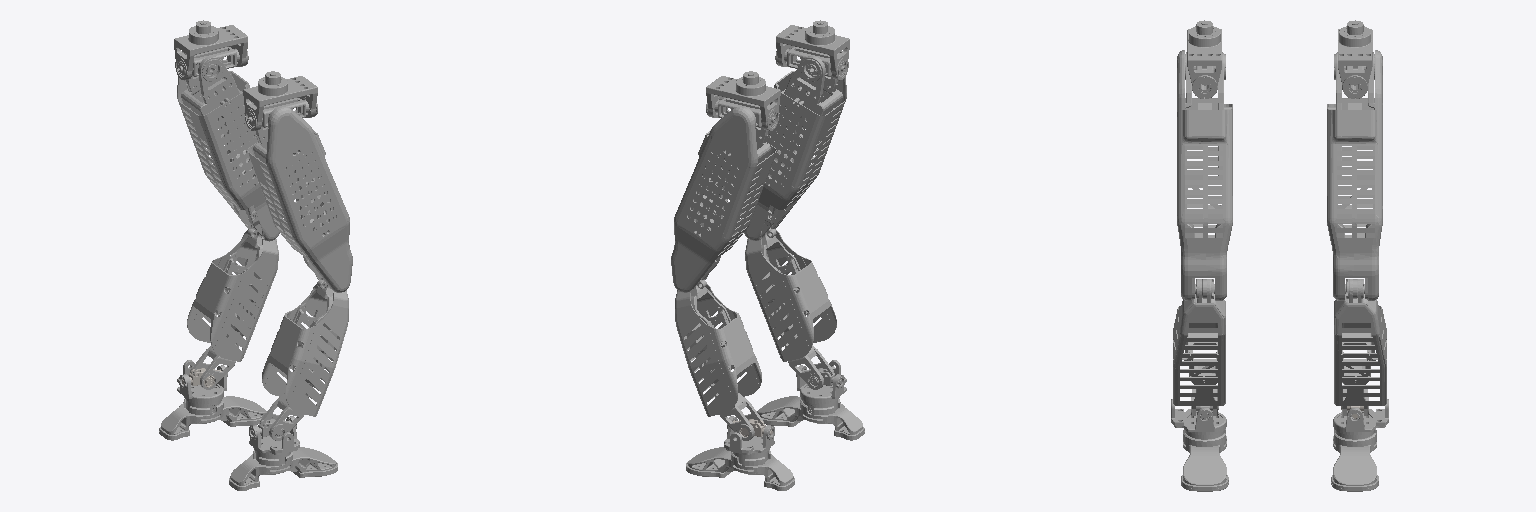
URDF robot description (biped_gazebo):
<?xml version="1.0" encoding="utf-8"?>
<!-- This URDF was automatically created by SolidWorks to URDF Exporter! Originally created by [author] ([email redacted]) 
     Commit Version: 1.6.0-4-g7f85cfe  Build Version: 1.6.7995.38578
     For more information, xyz="-0.0069577 -4.092E-06 0.083507please see http://wiki.ros.org/sw_urdf_exporter -->
<robot
  name="biped_gazebo">

  
  <link
    name="trunk">
    <inertial>
      <origin
        xyz="-0.0069577 -4.092E-06 0"
        rpy="0 0 0" />
      <mass
        value="5.3881" />
      <inertia
     ixx="0.045616"
        ixy="-2.279E-06"
        ixz="2.4007E-07"
        iyy="0.029371"
        iyz="1.1002E-10"
        izz="0.074965" />
    </inertial>
    <visual>
      <origin
        xyz="0 0 0"
        rpy="0 0 0" />
      <geometry>
        <mesh
          filename="package://biped_gazebo/meshes/trunk.STL" />
      </geometry>
      <material
        name="">
        <color
          rgba="0.75294 0.75294 0.75294 1" />
      </material>
    </visual>
     <collision>
      <origin
        xyz="0 0 0"
        rpy="0 0 0" />
      <geometry>
        <box size="0.290 0.389 0.648"/>
      </geometry>
    </collision>
  </link>
  <link
    name="r_hip_1">
    <inertial>
      <origin
        xyz="0.033316 4.3525E-12 0.04091"
        rpy="0 0 0" />
      <mass
        value="0.06082" />
      <inertia
        ixx="5.6576E-05"
        ixy="1.3981E-14"
        ixz="4.5222E-06"
        iyy="0.00010609"
        iyz="7.7058E-15"
        izz="0.00010293" />
    </inertial>
    <visual>
      <origin
        xyz="0 0 0"
        rpy="0 0 0" />
      <geometry>
        <mesh
          filename="package://biped_gazebo/meshes/r_hip_1.STL" />
      </geometry>
      <material
        name="">
        <color
          rgba="0.69804 0.69804 0.69804 1" />
      </material>
    </visual>
    <collision>
      <origin
        xyz="0 0 0"
        rpy="0 0 0" />
      <geometry>
        <mesh
          filename="package://biped_gazebo/meshes/r_hip_1.STL" />
      </geometry>
    </collision>
  </link>
  <joint
    name="r_j0"
    type="revolute">
    <origin
      xyz="0 -0.154999999999996 -0.232487666753022"
      rpy="0 -0.338000462941209 0" />
    <parent
      link="trunk" />
    <child
      link="r_hip_1" />
    <axis
      xyz="0.331601353840647 0 0.943419600247446" />
  <limit effort="150.0" lower="-6.28318530718" upper="6.28318530718" velocity="3.15"/>
    <dynamics damping="0.0" friction="0.0"/>
  </joint>
  <link
    name="r_hip_2">
    <inertial>
      <origin
        xyz="0.010787 -0.00079176 -0.0038183"
        rpy="0 0 0" />
      <mass
        value="0.03831" />
      <inertia
        ixx="1.8449E-05"
        ixy="-3.2225E-07"
        ixz="1.4639E-05"
        iyy="5.5824E-05"
        iyz="1.15E-07"
        izz="5.499E-05" />
    </inertial>
    <visual>
      <origin
        xyz="0 0 0"
        rpy="0 0 0" />
      <geometry>
        <mesh
          filename="package://biped_gazebo/meshes/r_hip_2.STL" />
      </geometry>
      <material
        name="">
        <color
          rgba="0.69804 0.69804 0.69804 1" />
      </material>
    </visual>
    <collision>
      <origin
        xyz="0 0 0"
        rpy="0 0 0" />
      <geometry>
        <mesh
          filename="package://biped_gazebo/meshes/r_hip_2.STL" />
      </geometry>
    </collision>
  </link>
  <joint
    name="r_j1"
    type="revolute">
    <origin
      xyz="0 0 0"
      rpy="0 0 0" />
    <parent
      link="r_hip_1" />
    <child
      link="r_hip_2" />
    <axis
      xyz="0.943419600247446 0 -0.331601353840647" />
    <limit effort="150.0" lower="-6.28318530718" upper="6.28318530718" velocity="3.15"/>
    <dynamics damping="0.0" friction="0.0"/>
  </joint>
  <link
    name="r_thigh">
    <inertial>
      <origin
        xyz="-0.0030975 0.00070719 -0.23726"
        rpy="0 0 0" />
      <mass
        value="0.1803" />
      <inertia
        ixx="0.0022151"
        ixy="-8.068E-06"
        ixz="0.00011521"
        iyy="0.0021591"
        iyz="3.0782E-05"
        izz="0.00036544" />
    </inertial>
    <visual>
      <origin
        xyz="0 0 0"
        rpy="0 0 0" />
      <geometry>
        <mesh
          filename="package://biped_gazebo/meshes/r_thigh.STL" />
      </geometry>
      <material
        name="">
        <color
          rgba="0.69804 0.69804 0.69804 1" />
      </material>
    </visual>
   <collision>
      <origin
        xyz="0 0 -0.26"
        rpy="0 0 0" />
      <geometry>
        <box size="0.134 0.11 0.52"/>
      </geometry>
    </collision>
  </link>
  <joint
    name="r_j2"
    type="revolute">
    <origin
      xyz="0 0 0"
      rpy="0 0 0" />
    <parent
      link="r_hip_2" />
    <child
      link="r_thigh" />
    <axis
      xyz="0 1 0" />
  <limit effort="150.0" lower="-6.28318530718" upper="6.28318530718" velocity="3.15"/>
    <dynamics damping="0.0" friction="0.0"/>
  </joint>
  <link
    name="r_shank">
    <inertial>
      <origin
        xyz="0.012918 -0.001006 -0.13905"
        rpy="0 0 0" />
      <mass
        value="0.094371" />
      <inertia
        ixx="0.00074231"
        ixy="-1.0243E-06"
        ixz="5.6781E-05"
        iyy="0.0007242"
        iyz="-4.8112E-06"
        izz="8.7145E-05" />
    </inertial>
    <visual>
      <origin
        xyz="0 0 0"
        rpy="0 0 0" />
      <geometry>
        <mesh
          filename="package://biped_gazebo/meshes/r_shank.STL" />
      </geometry>
      <material
        name="">
        <color
          rgba="0.69804 0.69804 0.69804 1" />
      </material>
    </visual>
    <collision>
      <origin
        xyz="0 0 -0.187"
        rpy="0 0 0" />
      <geometry>
        <box size="0.115 0.092 0.374"/>
      </geometry>
    </collision>
  </link>
  <joint
    name="r_j3"
    type="revolute">
    <origin
      xyz="0 0 -0.459999999999993"
      rpy="0 0.761661685570331 0" />
    <parent
      link="r_thigh" />
    <child
      link="r_shank" />
    <axis
      xyz="0 1 0" />
  <limit effort="150.0" lower="-6.28318530718" upper="6.28318530718" velocity="3.15"/>
    <dynamics damping="0.0" friction="0.0"/>
  </joint>
  <link
    name="r_ankle">
    <inertial>
      <origin
        xyz="-0.00042543 0.00022181 -1.7557E-06"
        rpy="0 0 0" />
      <mass
        value="0.013946" />
      <inertia
        ixx="2.0724E-06"
        ixy="-1.3161E-09"
        ixz="-9.2509E-09"
        iyy="6.7476E-06"
        iyz="-5.4313E-12"
        izz="7.2632E-06" />
    </inertial>
    <visual>
      <origin
        xyz="0 0 0"
        rpy="0 0 0" />
      <geometry>
        <mesh
          filename="package://biped_gazebo/meshes/r_ankle.STL" />
      </geometry>
      <material
        name="">
        <color
          rgba="0.69804 0.69804 0.69804 1" />
      </material>
    </visual>
    <collision>
      <origin
        xyz="0 0 0"
        rpy="0 0 0" />
      <geometry>
        <mesh
          filename="package://biped_gazebo/meshes/r_ankle.STL" />
      </geometry>
    </collision>
  </link>
  <joint
    name="r_j4"
    type="revolute">
    <origin
      xyz="0 0 -0.369999264544103"
      rpy="0 -0.419926218029841 0" />
    <parent
      link="r_shank" />
    <child
      link="r_ankle" />
    <axis
      xyz="0 1 0" />
<limit effort="150.0" lower="-6.28318530718" upper="6.28318530718" velocity="3.15"/>
    <dynamics damping="0.0" friction="0.0"/>
  </joint>
  <link
    name="r_foot">
    <inertial>
      <origin
        xyz="0.029031 -1.0458E-05 -0.09403"
        rpy="0 0 0" />
      <mass
        value="0.076977" />
      <inertia
        ixx="5.1121E-05"
        ixy="-2.3378E-08"
        ixz="2.0448E-05"
        iyy="0.00037216"
        iyz="3.2135E-09"
        izz="0.0003964" />
    </inertial>
    <visual>
      <origin
        xyz="0 0 0"
        rpy="0 0 0" />
      <geometry>
        <mesh
          filename="package://biped_gazebo/meshes/r_foot.STL" />
      </geometry>
      <material
        name="">
        <color
          rgba="0.69804 0.69804 0.69804 1" />
      </material>
    </visual>
    <collision>
      <origin
        xyz="0.0245 0 -0.0615"
        rpy="0 0 0" />
      <geometry>
       <box size="0.257 0.098 0.123"/>
      </geometry>
    </collision>
  </link>
  <joint
    name="r_j5"
    type="revolute">
    <origin
      xyz="0 0 0"
      rpy="0 0 0" />
    <parent
      link="r_ankle" />
    <child
      link="r_foot" />
    <axis
      xyz="1 0 0" />
   <limit effort="150.0" lower="-6.28318530718" upper="6.28318530718" velocity="3.15"/>
    <dynamics damping="0.0" friction="0.0"/>
  </joint>
  <link
    name="l_hip_1">
    <inertial>
      <origin
        xyz="0.033316 4.3575E-12 0.04091"
        rpy="0 0 0" />
      <mass
        value="0.06082" />
      <inertia
        ixx="5.6576E-05"
        ixy="1.3981E-14"
        ixz="4.5222E-06"
        iyy="0.00010609"
        iyz="7.7058E-15"
        izz="0.00010293" />
    </inertial>
    <visual>
      <origin
        xyz="0 0 0"
        rpy="0 0 0" />
      <geometry>
        <mesh
          filename="package://biped_gazebo/meshes/l_hip_1.STL" />
      </geometry>
      <material
        name="">
        <color
          rgba="0.69804 0.69804 0.69804 1" />
      </material>
    </visual>
    <collision>
      <origin
        xyz="0 0 0"
        rpy="0 0 0" />
      <geometry>
        <mesh
          filename="package://biped_gazebo/meshes/l_hip_1.STL" />
      </geometry>
    </collision>
  </link>
  <joint
    name="l_j0"
    type="revolute">
    <origin
      xyz="0 0.155000000000001 -0.232487666753018"
      rpy="0 -0.338000462941113 0" />
    <parent
      link="trunk" />
    <child
      link="l_hip_1" />
    <axis
      xyz="0.331601353840557 0 0.943419600247477" />
   <limit effort="150.0" lower="-6.28318530718" upper="6.28318530718" velocity="3.15"/>
    <dynamics damping="0.0" friction="0.0"/>
  </joint>
  <link
    name="l_hip_2">
    <inertial>
      <origin
        xyz="0.010787 0.00079176 -0.0038183"
        rpy="0 0 0" />
      <mass
        value="0.03831" />
      <inertia
        ixx="1.8449E-05"
        ixy="3.2225E-07"
        ixz="1.4639E-05"
        iyy="5.5824E-05"
        iyz="-1.15E-07"
        izz="5.499E-05" />
    </inertial>
    <visual>
      <origin
        xyz="0 0 0"
        rpy="0 0 0" />
      <geometry>
        <mesh
          filename="package://biped_gazebo/meshes/l_hip_2.STL" />
      </geometry>
      <material
        name="">
        <color
          rgba="0.69804 0.69804 0.69804 1" />
      </material>
    </visual>
    <collision>
      <origin
        xyz="0 0 0"
        rpy="0 0 0" />
      <geometry>
        <mesh
          filename="package://biped_gazebo/meshes/l_hip_2.STL" />
      </geometry>
    </collision>
  </link>
  <joint
    name="l_j1"
    type="revolute">
    <origin
      xyz="0 0 0"
      rpy="0 0 0" />
    <parent
      link="l_hip_1" />
    <child
      link="l_hip_2" />
    <axis
      xyz="0.943419600247477 0 -0.331601353840556" />
   <limit effort="150.0" lower="-6.28318530718" upper="6.28318530718" velocity="3.15"/>
    <dynamics damping="0.0" friction="0.0"/>
  </joint>
  <link
    name="l_thigh">
    <inertial>
      <origin
        xyz="-0.0030975 -0.00070717 -0.23726"
        rpy="0 0 0" />
      <mass
        value="0.1803" />
      <inertia
        ixx="0.0022151"
        ixy="8.068E-06"
        ixz="0.00011521"
        iyy="0.0021591"
        iyz="-3.0782E-05"
        izz="0.00036544" />
    </inertial>
    <visual>
      <origin
        xyz="0 0 0"
        rpy="0 0 0" />
      <geometry>
        <mesh
          filename="package://biped_gazebo/meshes/l_thigh.STL" />
      </geometry>
      <material
        name="">
        <color
          rgba="0.69804 0.69804 0.69804 1" />
      </material>
    </visual>
    <collision>
      <origin
        xyz="0 0 -0.26"
        rpy="0 0 0" />
      <geometry>
        <box size="0.134 0.11 0.52"/>
      </geometry>
    </collision>
  </link>
  <joint
    name="l_j2"
    type="revolute">
    <origin
      xyz="0 0 0"
      rpy="0 0 0" />
    <parent
      link="l_hip_2" />
    <child
      link="l_thigh" />
    <axis
      xyz="0 1 0" />
   <limit effort="150.0" lower="-6.28318530718" upper="6.28318530718" velocity="3.15"/>
    <dynamics damping="0.0" friction="0.0"/>
  </joint>
  <link
    name="l_shank">
    <inertial>
      <origin
        xyz="0.012918 0.0010059 -0.13905"
        rpy="0 0 0" />
      <mass
        value="0.094371" />
      <inertia
        ixx="0.00074231"
        ixy="1.0243E-06"
        ixz="5.6781E-05"
        iyy="0.0007242"
        iyz="4.8113E-06"
        izz="8.7145E-05" />
    </inertial>
    <visual>
      <origin
        xyz="0 0 0"
        rpy="0 0 0" />
      <geometry>
        <mesh
          filename="package://biped_gazebo/meshes/l_shank.STL" />
      </geometry>
      <material
        name="">
        <color
          rgba="0.69804 0.69804 0.69804 1" />
      </material>
    </visual>
       <collision>
      <origin
        xyz="0 0 -0.187"
        rpy="0 0 0" />
      <geometry>
       <box size="0.115 0.092 0.374"/>
      </geometry>
    </collision>
  </link>
  <joint
    name="l_j3"
    type="revolute">
    <origin
      xyz="0 0 -0.46"
      rpy="0 0.761661685570177 0" />
    <parent
      link="l_thigh" />
    <child
      link="l_shank" />
    <axis
      xyz="0 1 0" />
  <limit effort="150.0" lower="-6.28318530718" upper="6.28318530718" velocity="3.15"/>
    <dynamics damping="0.0" friction="0.0"/>
  </joint>
  <link
    name="l_ankle">
    <inertial>
      <origin
        xyz="-0.00042543 -0.00022181 -1.7557E-06"
        rpy="0 0 0" />
      <mass
        value="0.013946" />
      <inertia
        ixx="2.0724E-06"
        ixy="1.3161E-09"
        ixz="-9.2509E-09"
        iyy="6.7476E-06"
        iyz="5.4313E-12"
        izz="7.2632E-06" />
    </inertial>
    <visual>
      <origin
        xyz="0 0 0"
        rpy="0 0 0" />
      <geometry>
        <mesh
          filename="package://biped_gazebo/meshes/l_ankle.STL" />
      </geometry>
      <material
        name="">
        <color
          rgba="0.77647 0.75686 0.73725 1" />
      </material>
    </visual>
    <collision>
      <origin
        xyz="0 0 0"
        rpy="0 0 0" />
      <geometry>
        <mesh
          filename="package://biped_gazebo/meshes/l_ankle.STL" />
      </geometry>
    </collision>
  </link>
  <joint
    name="l_j4"
    type="revolute">
    <origin
      xyz="0 0 -0.369999264544098"
      rpy="0 -0.419926218029782 0" />
    <parent
      link="l_shank" />
    <child
      link="l_ankle" />
    <axis
      xyz="0 1 0" />
     <limit effort="150.0" lower="-6.28318530718" upper="6.28318530718" velocity="3.15"/>
    <dynamics damping="0.0" friction="0.0"/>
  </joint>
  <link
    name="l_foot">
    <inertial>
      <origin
        xyz="0.02903 1.0533E-05 -0.094029"
        rpy="0 0 0" />
      <mass
        value="0.076977" />
      <inertia
        ixx="5.1121E-05"
        ixy="2.2836E-08"
        ixz="2.0449E-05"
        iyy="0.00037216"
        iyz="-3.2901E-09"
        izz="0.0003964" />
    </inertial>
    <visual>
      <origin
        xyz="0 0 0"
        rpy="0 0 0" />
      <geometry>
        <mesh
          filename="package://biped_gazebo/meshes/l_foot.STL" />
      </geometry>
      <material
        name="">
        <color
          rgba="0.69804 0.69804 0.69804 1" />
      </material>
    </visual>
    <collision>
      <origin
        xyz="0.0245 0 -0.0615"
        rpy="0 0 0" />
      <geometry>
       <box size="0.257 0.098 0.123"/>
      </geometry>
    </collision>
  </link>
  <joint
    name="l_j5"
    type="revolute">
    <origin
      xyz="0 0 0"
      rpy="0 0 0" />
    <parent
      link="l_ankle" />
    <child
      link="l_foot" />
    <axis
      xyz="1 0 0" />
  <limit effort="150.0" lower="-6.28318530718" upper="6.28318530718" velocity="3.15"/>
    <dynamics damping="0.0" friction="0.0"/>
  </joint>

  <link name="lcontactpoint">
    <inertial>
      <mass value="0"/>
      <origin rpy="0 0 0" xyz="0 0 0"/>
      <inertia ixx="0" ixy="0" ixz="0" iyy="0" iyz="0" izz="0"/>
    </inertial>
  </link>
  <joint name="lcontact_fixed_joint" type="fixed">
    <origin rpy="0 0 0" xyz="0 0 -0.123"/>
    <parent link="l_foot"/>
    <child link="lcontactpoint"/>
  </joint>

   <link name="rcontactpoint">
    <inertial>
      <mass value="0"/>
      <origin rpy="0 0 0" xyz="0 0 0"/>
      <inertia ixx="0" ixy="0" ixz="0" iyy="0" iyz="0" izz="0"/>
    </inertial>
  </link>
  <joint name="rcontact_fixed_joint" type="fixed">
    <origin rpy="0 0 0" xyz="0 0 -0.123"/>
    <parent link="r_foot"/>
    <child link="rcontactpoint"/>
  </joint>


</robot>

--- Facts derived from the render (not from the file) ---
3 views of the same robot in one strip: view 1: azimuth 30°, elevation 25°; view 2: azimuth 150°, elevation 25°; view 3: azimuth 270°, elevation 25° (orthographic).
Robot: biped_gazebo — 15 links, 14 joints (12 revolute, 2 fixed); root link trunk; default pose: all joints at 0.
Links seen in each view (by area): view 1: r_thigh, l_thigh, r_shank, l_shank, l_foot, r_foot, r_hip_1, l_hip_1, l_hip_2, r_hip_2; view 2: l_thigh, r_thigh, l_shank, r_shank, r_foot, l_foot, l_hip_1, r_hip_1, r_hip_2, l_hip_2; view 3: r_thigh, l_thigh, r_shank, l_shank, r_foot, l_foot, r_hip_1, l_hip_1.
Link boxes in pixels (x1,y1,x2,y2): r_thigh: [247, 104, 352, 292]; l_thigh: [177, 51, 279, 241]; r_shank: [260, 277, 348, 440]; l_shank: [187, 225, 278, 389]; l_foot: [159, 360, 266, 440]; r_foot: [229, 416, 337, 490]; r_hip_1: [243, 71, 317, 130]; l_hip_1: [174, 20, 248, 80]; l_hip_2: [179, 47, 239, 76]; r_hip_2: [248, 98, 309, 127]; l_thigh: [671, 104, 776, 292]; r_thigh: [744, 51, 846, 241]; l_shank: [675, 277, 763, 440]; r_shank: [745, 225, 836, 389]; r_foot: [757, 360, 864, 440]; l_foot: [686, 416, 794, 490]; l_hip_1: [706, 71, 780, 130]; r_hip_1: [775, 20, 849, 80]; r_hip_2: [784, 47, 844, 76]; l_hip_2: [714, 98, 775, 127]; r_thigh: [1177, 50, 1232, 300]; l_thigh: [1327, 50, 1382, 300]; r_shank: [1173, 279, 1225, 415]; l_shank: [1334, 279, 1386, 415]; r_foot: [1171, 399, 1228, 491]; l_foot: [1331, 399, 1388, 491]; r_hip_1: [1187, 20, 1221, 98]; l_hip_1: [1338, 20, 1372, 98].
Size in the robot's own frame: 0.2871 by 0.448 by 0.9958 metres.
12 mesh visuals loaded from 13 distinct referenced files (12 binary STL); not drawn: 1 (reference not matched to a file when rendering).
